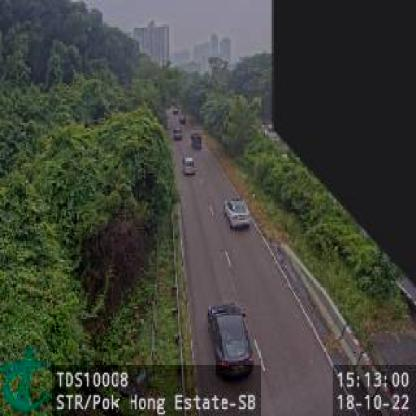Car: (208, 302, 257, 379), (223, 196, 253, 232), (182, 156, 196, 177), (191, 130, 203, 150)
